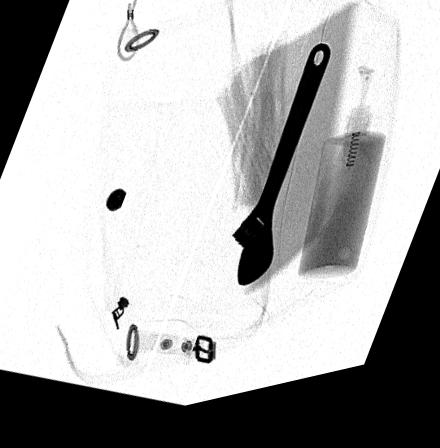Wrench: (229, 55, 334, 299)
